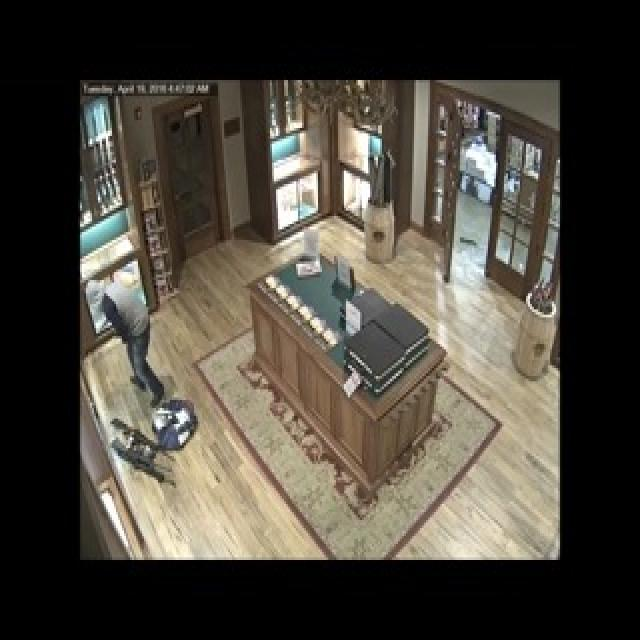thief: (88, 266, 161, 392)
